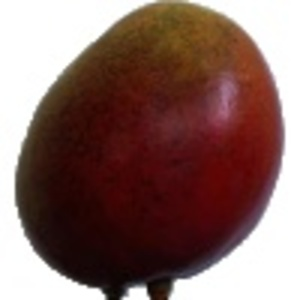manga: (15, 1, 286, 300)
